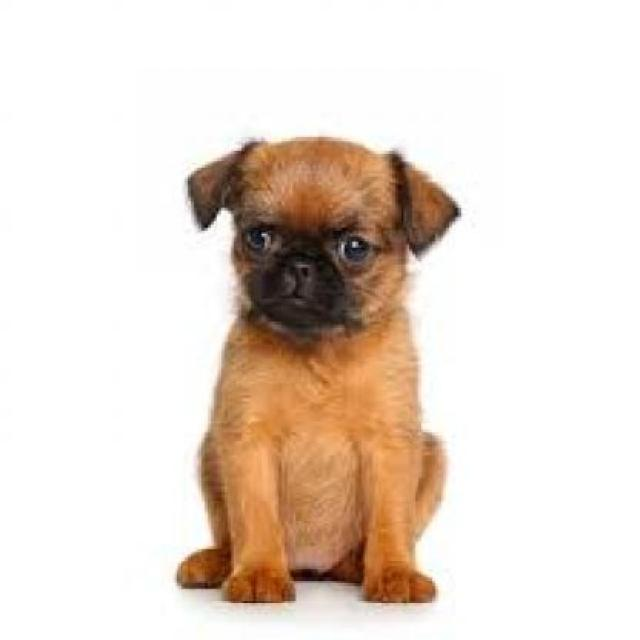animals: (147, 84, 475, 640)
